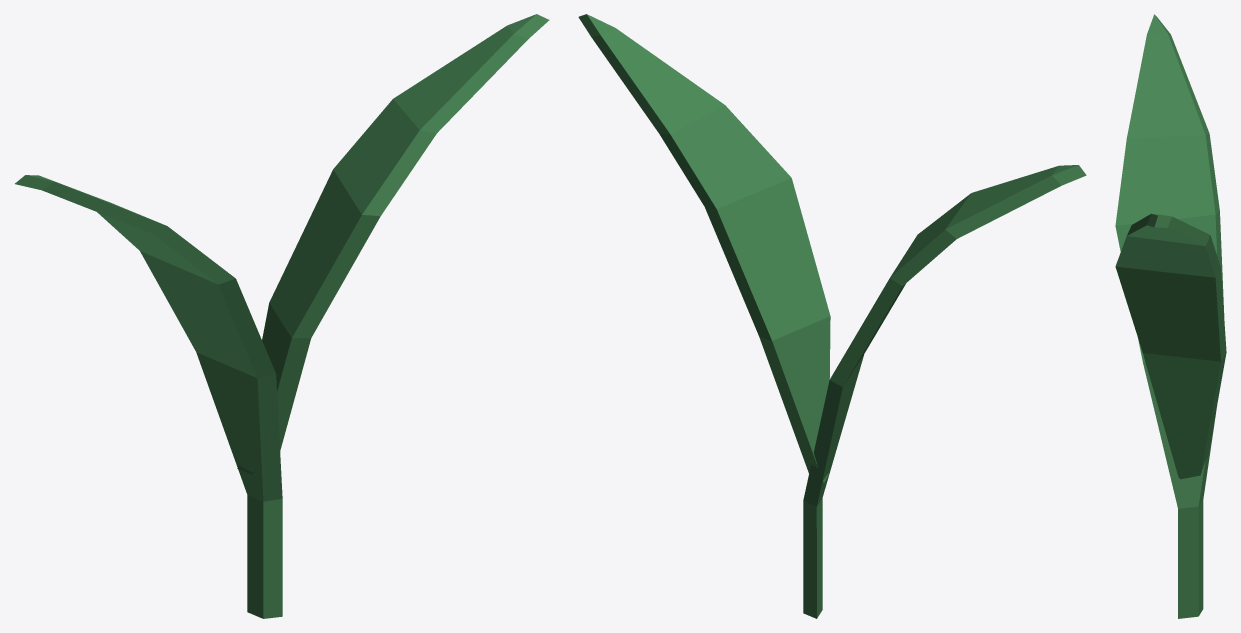
Rendered from Potato_1-optimized.glb.
3 views of the same model, side by side, from view 1: azimuth 30°, elevation 25°; view 2: azimuth 150°, elevation 25°; view 3: azimuth 270°, elevation 25° (orthographic). The views are drawn at different scales.
Visible parts, largest first — view 1: Carrot_1; view 2: Carrot_1; view 3: Carrot_1.
Part boxes in pixels (x1,y1,x2,y2): Carrot_1: (15, 14, 549, 618); Carrot_1: (578, 14, 1086, 618); Carrot_1: (1115, 14, 1226, 618).
Size of the model in its own units: 0.3551 by 0.3502 by 0.0686.
